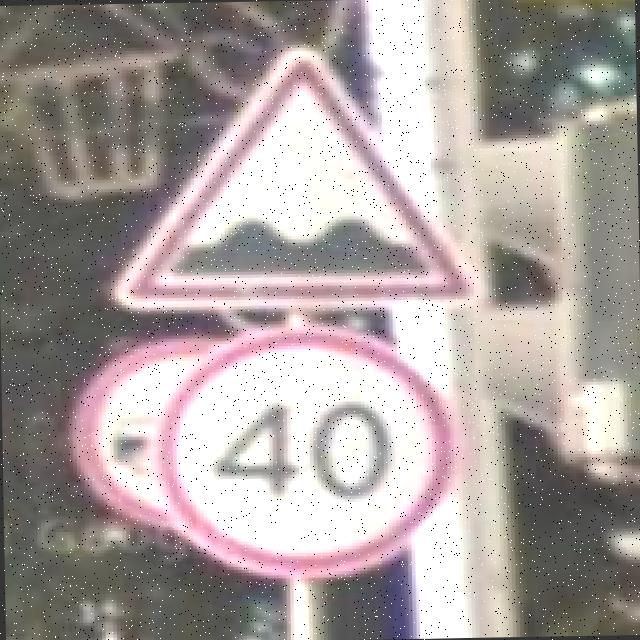Ograniczenie predkosci do 40: (152, 328, 460, 584)
